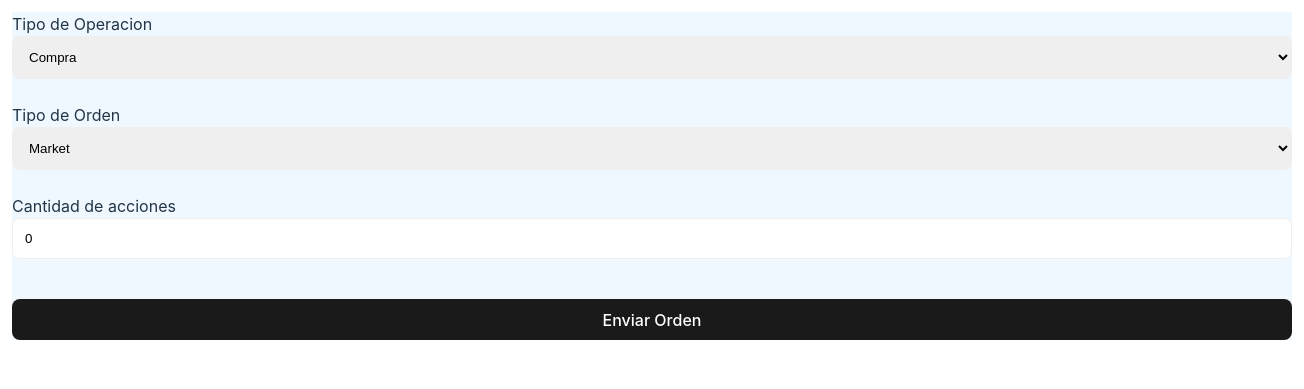
Test: <ModalForm /> › valido si pongo fracciones de accion en la cantidad a comprar
The image size is (1304, 389).
Replace the text in the number field labelled "Cantidad de acciones" with "1.5": (652,238) [12,218,1292,259]
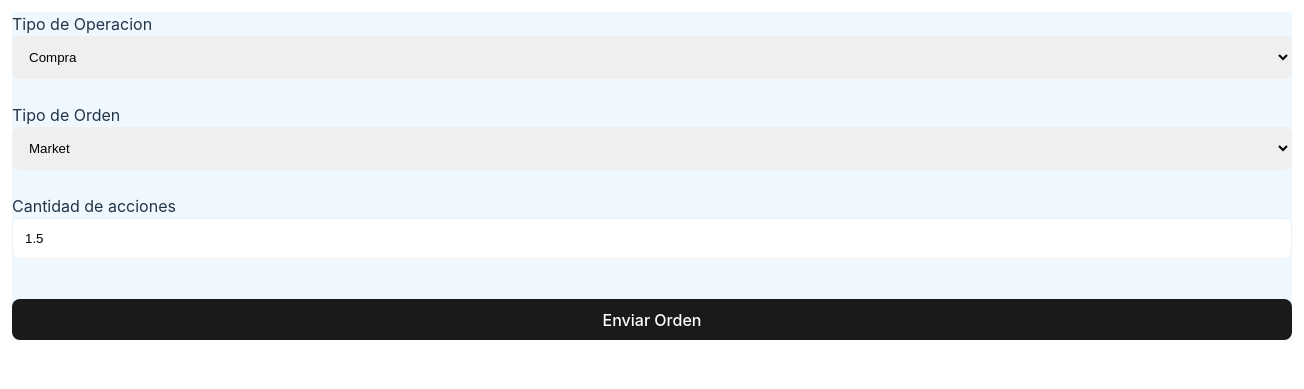
Click the button with aria-label "Submit": (652,320) [12,299,1292,340]
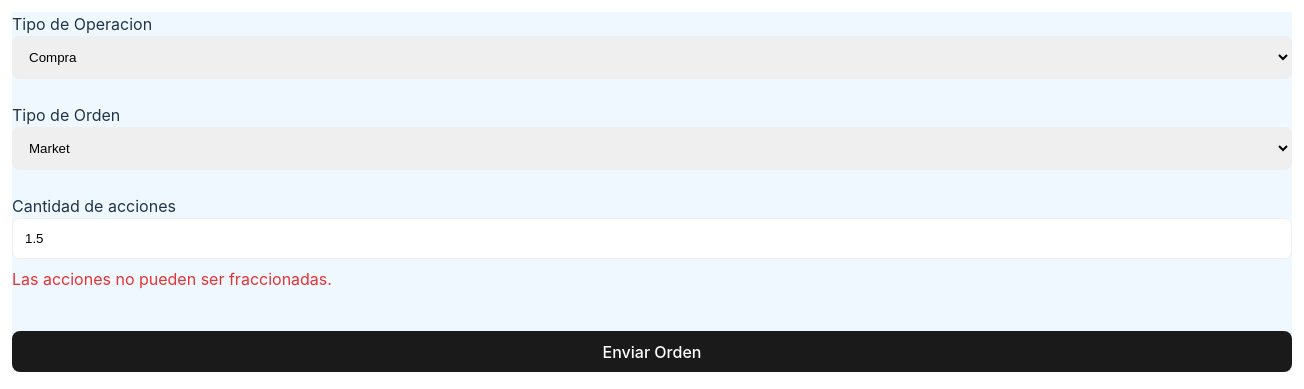
Expected: the text "Las acciones no pueden ser fraccionadas." is shown, [12,269,332,289]
